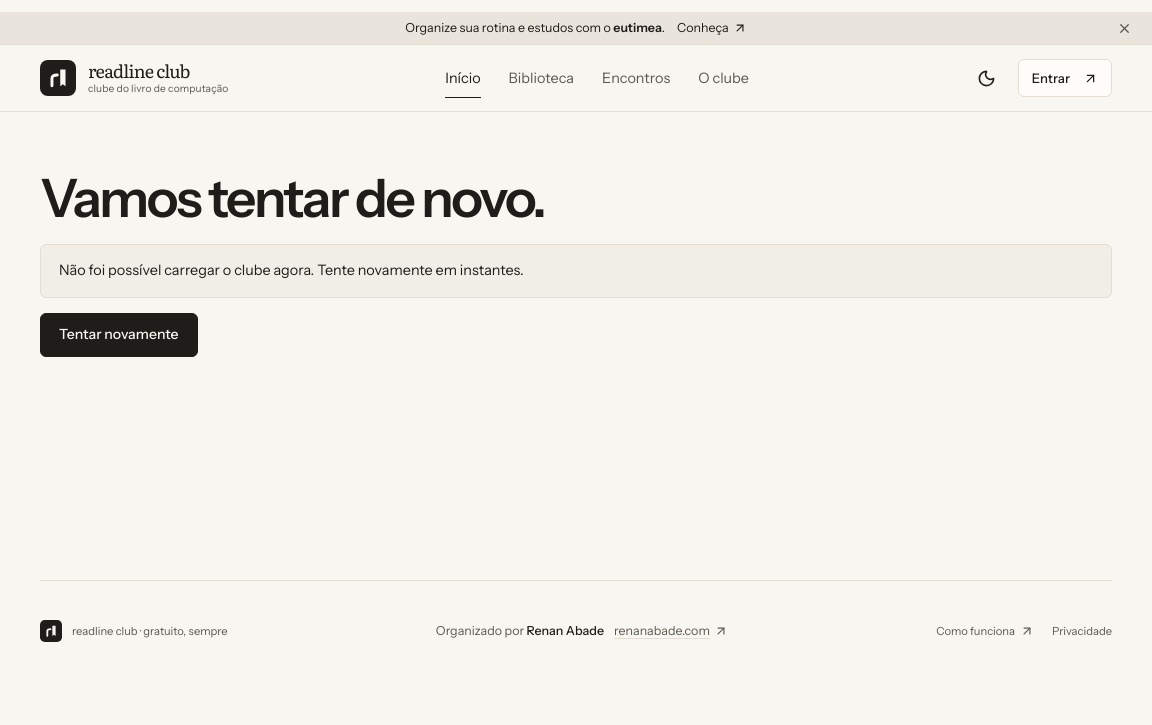
Test: persistent home failure has an actionable retry at /
Click the button "Tentar novamente".
click(119, 334)  # box 40,312 -> 198,356
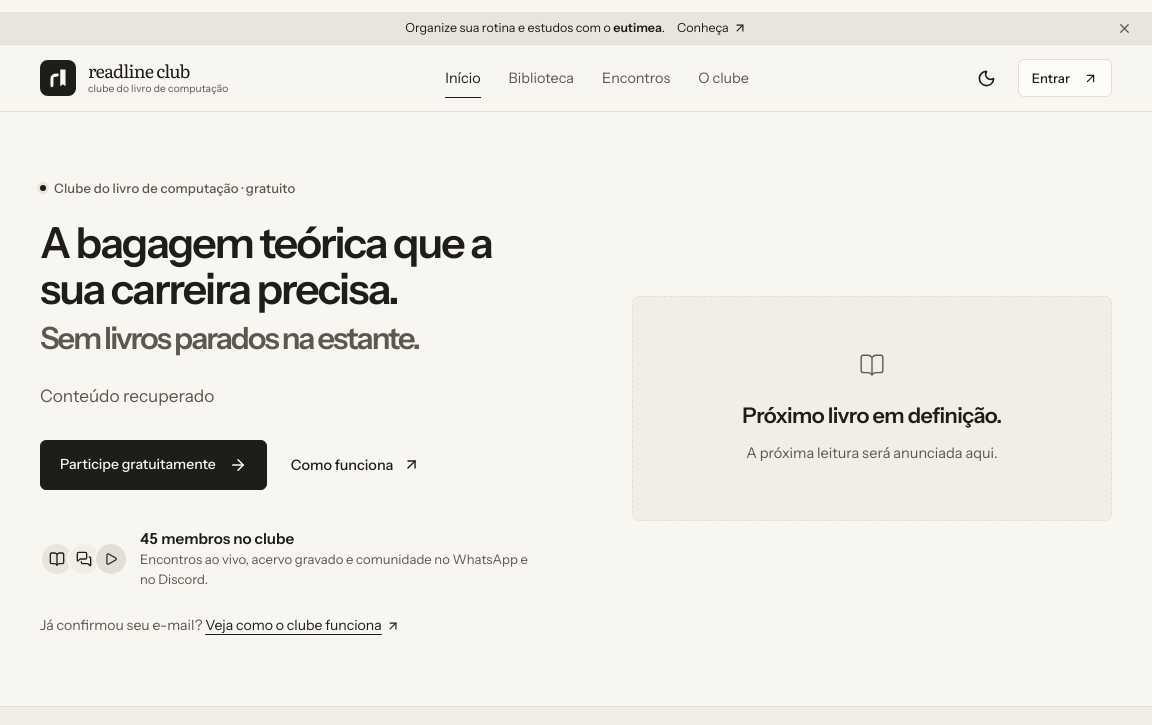
Check: the text "Conteúdo recuperado" is shown, box 40,384 -> 214,406
